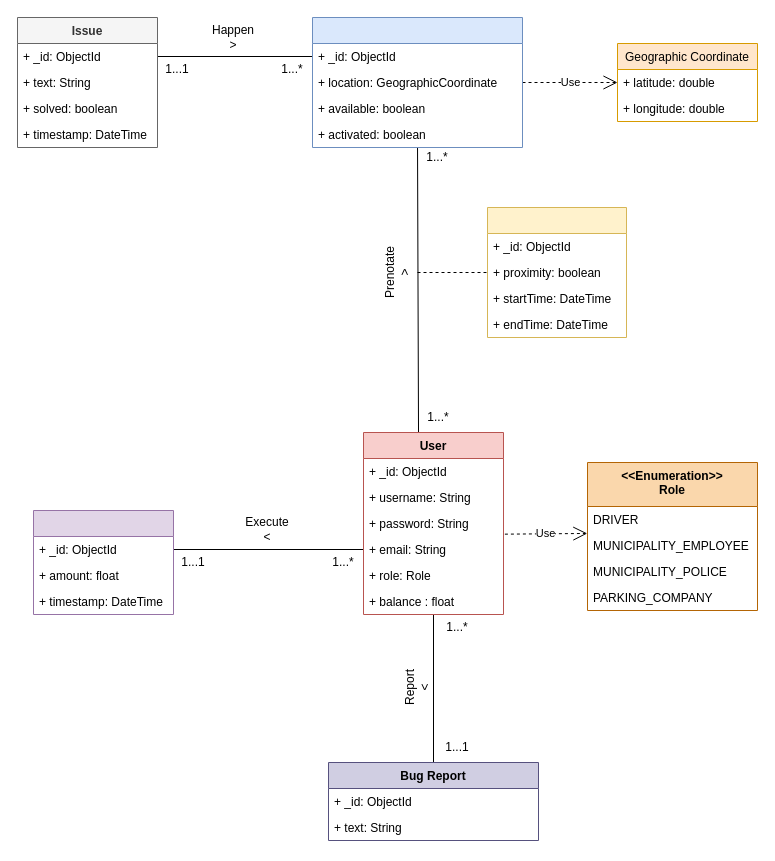
The diagram is 775 pixels wide and 861 high, and some of its shapes have lost their labels. The shapes that lost their labels are listed below. From the top down, each one's box as (x1, y1, x2, y2) in pixels, then its label:
(312, 16, 522, 148): Parking Spot
(486, 206, 626, 338): Prenotation
(32, 510, 174, 614): Transaction
